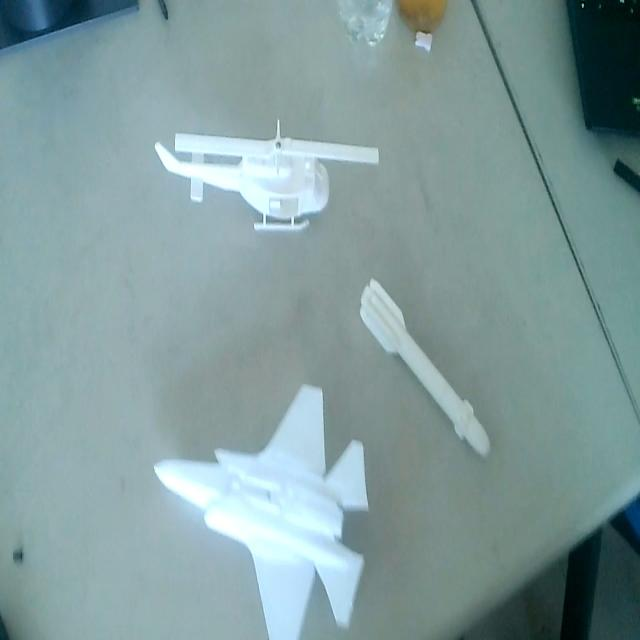Helicopter: (152, 116, 380, 239)
Jet: (150, 382, 374, 640)
Rocket: (355, 267, 493, 460)
